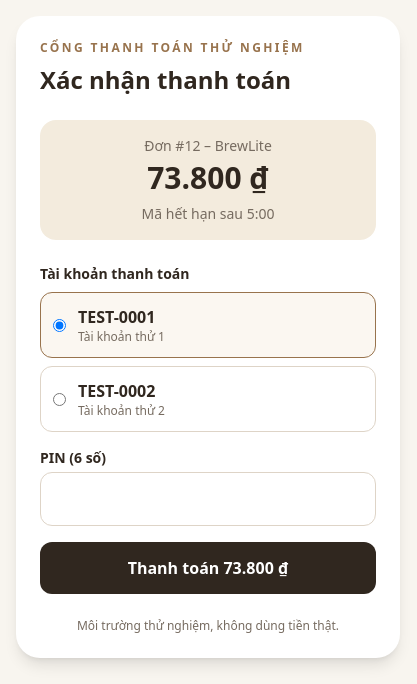
Test: Trang xác nhận QR trên điện thoại (FR-18) › hiện số tiền, tài khoản thử; nhập đúng PIN thì báo thành công
Expected: the button "Thanh toán 73.800 ₫" is shown, [40, 542, 376, 594]
Expected: the text "TEST-0002" is shown, [78, 379, 165, 403]
In the password field labelled "PIN (6 số)": (208, 499) [40, 472, 376, 526], type "12a3456"
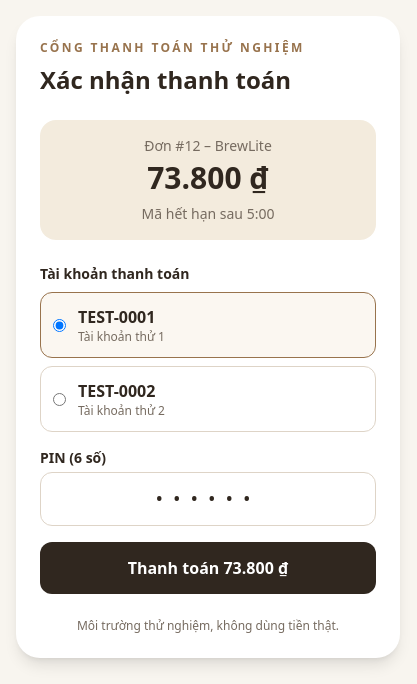
Click the button "Thanh toán 73.800 ₫": (208, 568) [40, 542, 376, 594]
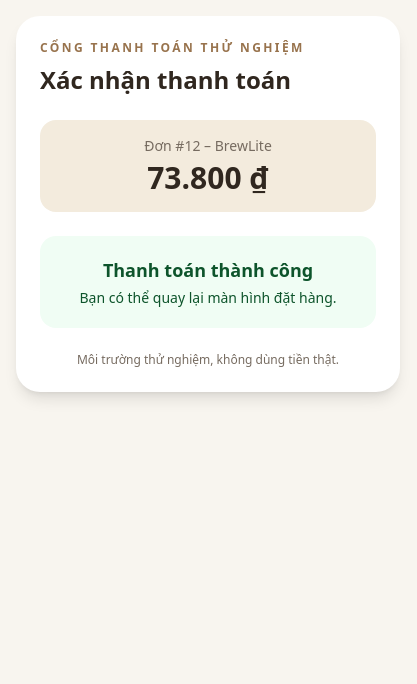
Now the text "Thanh toán thành công" is shown, box [103, 258, 313, 282]
